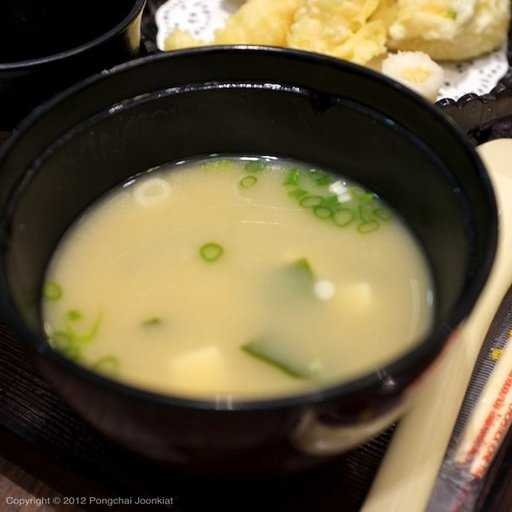soup: (35, 125, 436, 403)
